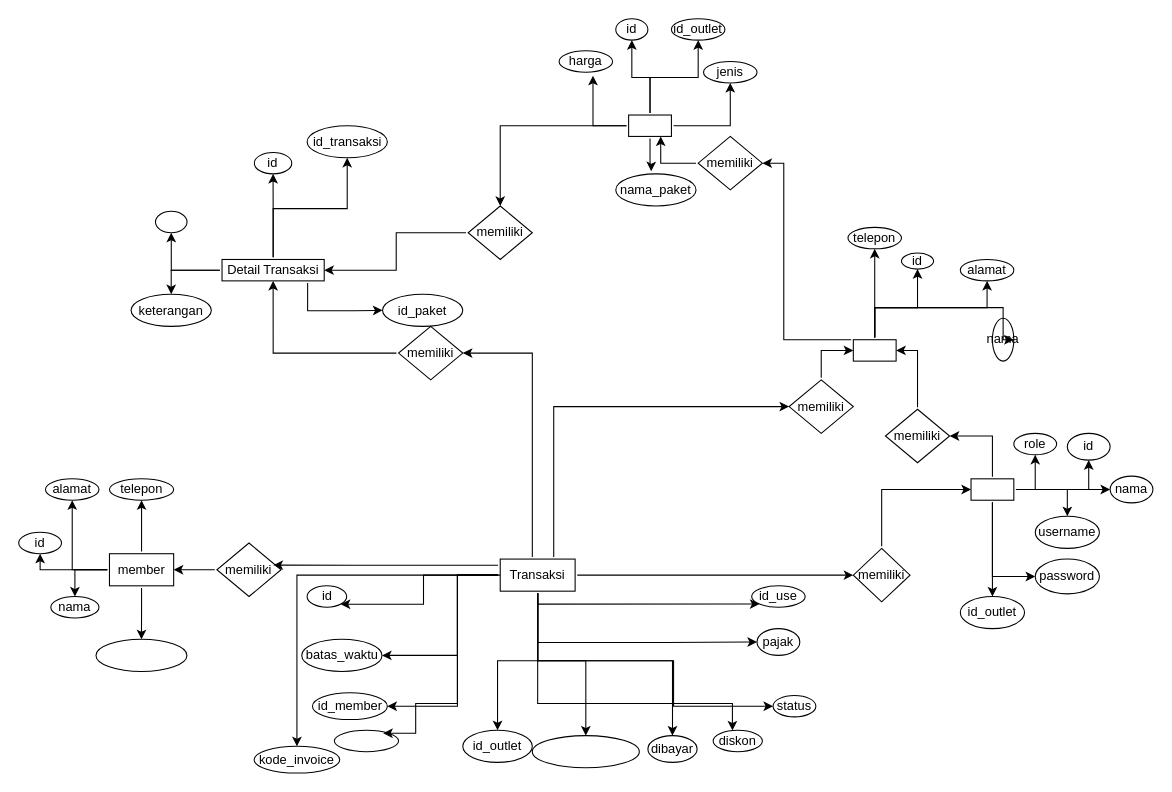
Some shapes in this 1172 by 792 pixel diagram are drawn without their labels. Here are the shapes that lost their labels. From the top down, the centre of each, then its label:
At point (649, 125): "Paket".
At point (170, 221): "qtx".
At point (874, 350): "Outlet".
At point (992, 489): "User".
At point (141, 654): "jenis_kelamin".
At point (366, 740): "tanggal".
At point (585, 751): "biaya_tambahan".
